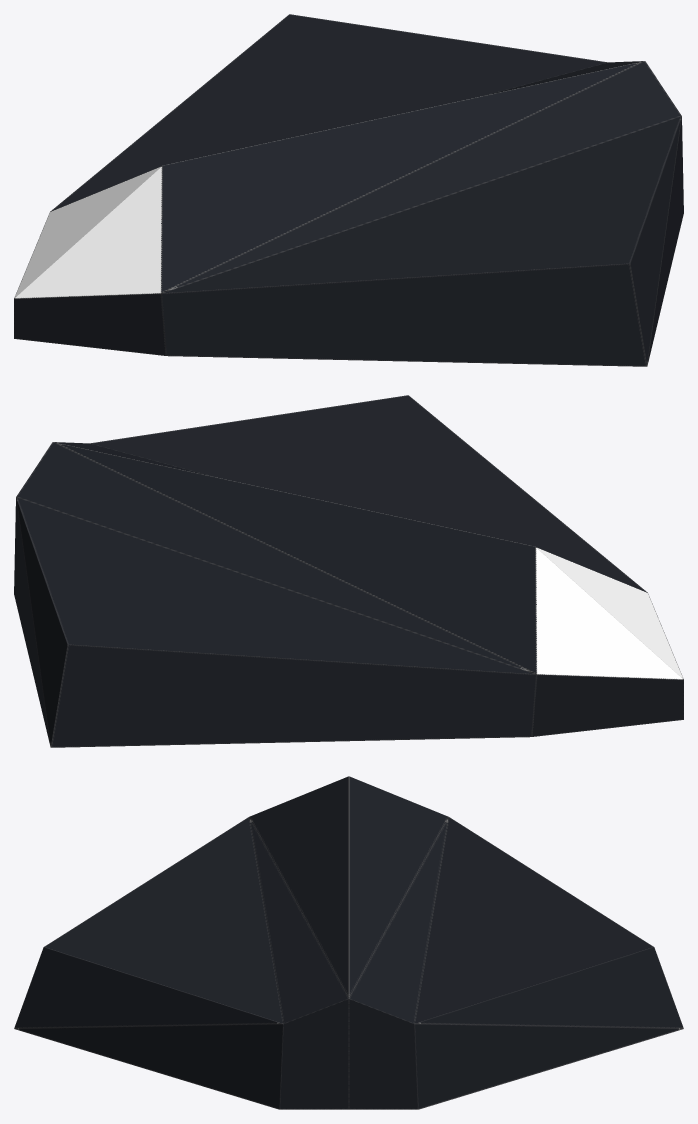
File: ship.fbx
The picture shows the model from 3 angles, top to bottom: view 1: azimuth 30°, elevation 25°; view 2: azimuth 150°, elevation 25°; view 3: azimuth 270°, elevation 25°; orthographic projection. The views are drawn at different scales.
Visible parts, largest first — view 1: Cube; view 2: Cube; view 3: Cube.
Boxes of the visible parts, x1,y1,x2,y2 form: Cube: (14,14,683,366); Cube: (14,395,683,747); Cube: (14,776,683,1109).
Size of the model in its own units: 6.52 by 1.35 by 6.69.
